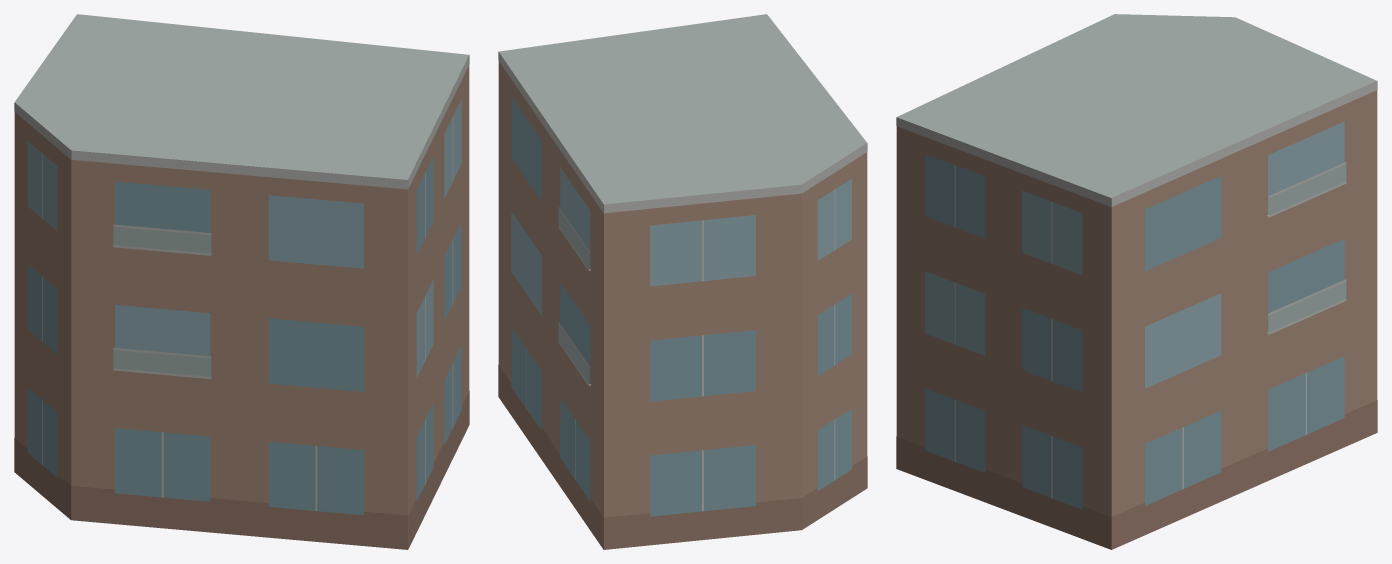
File: survey-upis-32843811.glb
The picture shows the model from 3 angles, left to right: view 1: azimuth 30°, elevation 25°; view 2: azimuth 150°, elevation 25°; view 3: azimuth 270°, elevation 25°; orthographic projection. The views are drawn at different scales.
Parts seen in each view (by area): view 1: survey-upis-32843811.tmp; view 2: survey-upis-32843811.tmp; view 3: survey-upis-32843811.tmp.
Boxes of the visible parts, x1,y1,x2,y2 form: survey-upis-32843811.tmp: [14, 14, 469, 549]; survey-upis-32843811.tmp: [498, 14, 867, 549]; survey-upis-32843811.tmp: [896, 14, 1377, 549].
Bounding box in the file's own units: 10.79 × 9.6 × 11.91.
